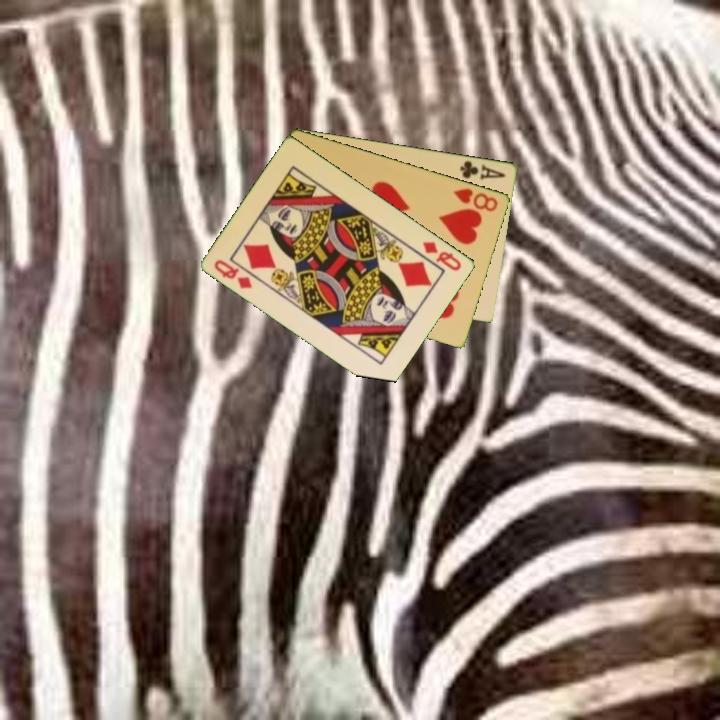8h: (450, 184, 501, 214)
Ac: (457, 157, 509, 183)
Qd: (419, 238, 465, 274), (211, 256, 256, 291)
